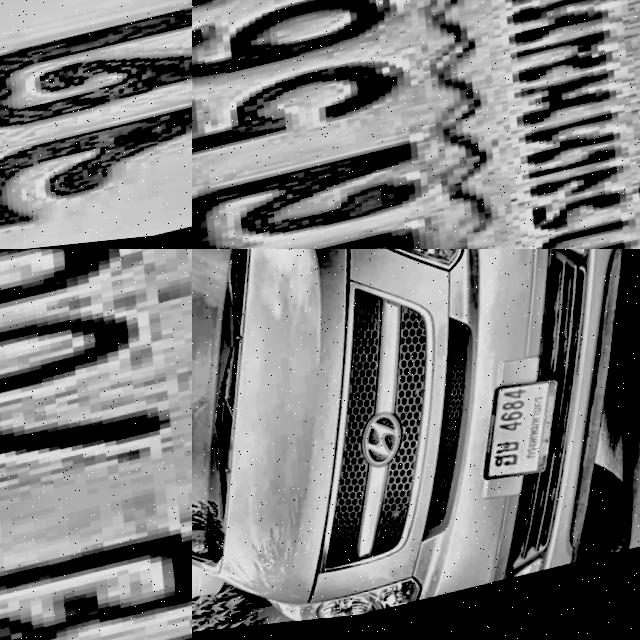license-plate: (192, 0, 640, 249), (0, 249, 192, 640), (0, 0, 192, 249), (468, 377, 582, 502)
